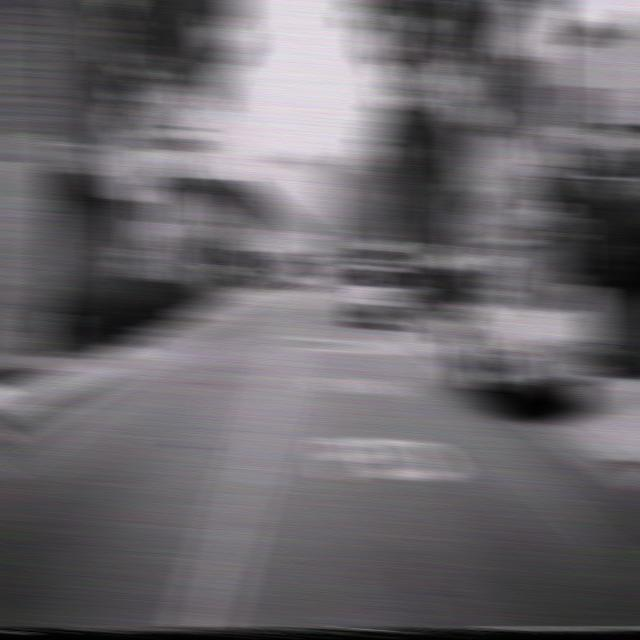pedestrianCrossing: (526, 121, 579, 198)
